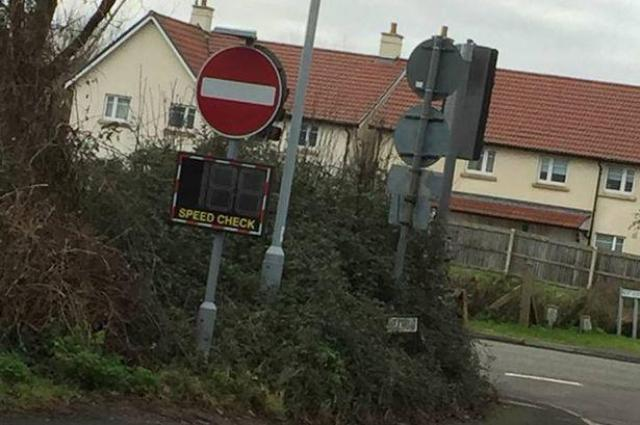B2: (192, 42, 288, 140)
